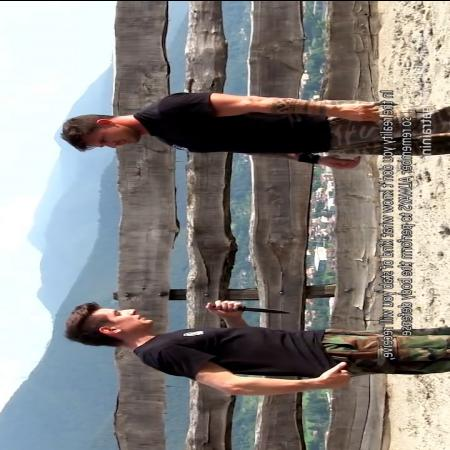long weapon: (204, 297, 294, 315)
